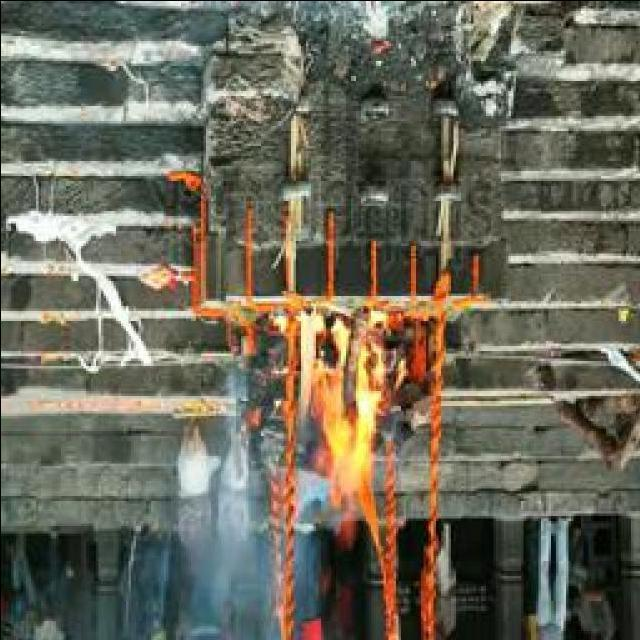Fire: (293, 306, 384, 518)
